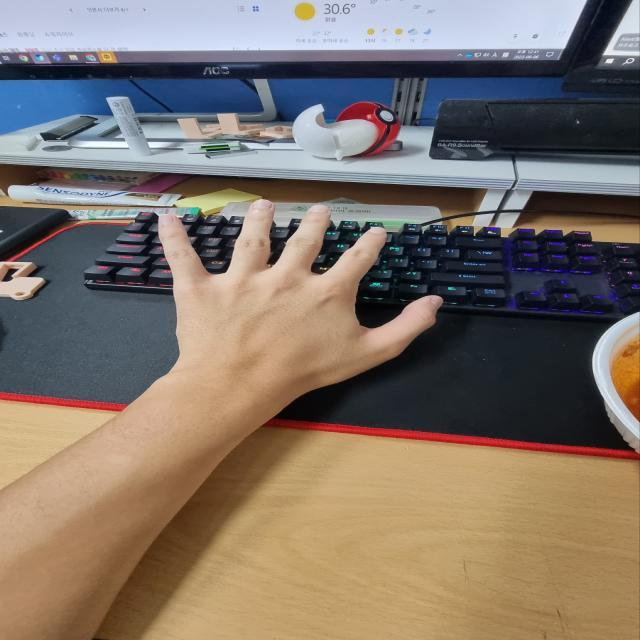keyboard-with-hands: (74, 210, 640, 317)
